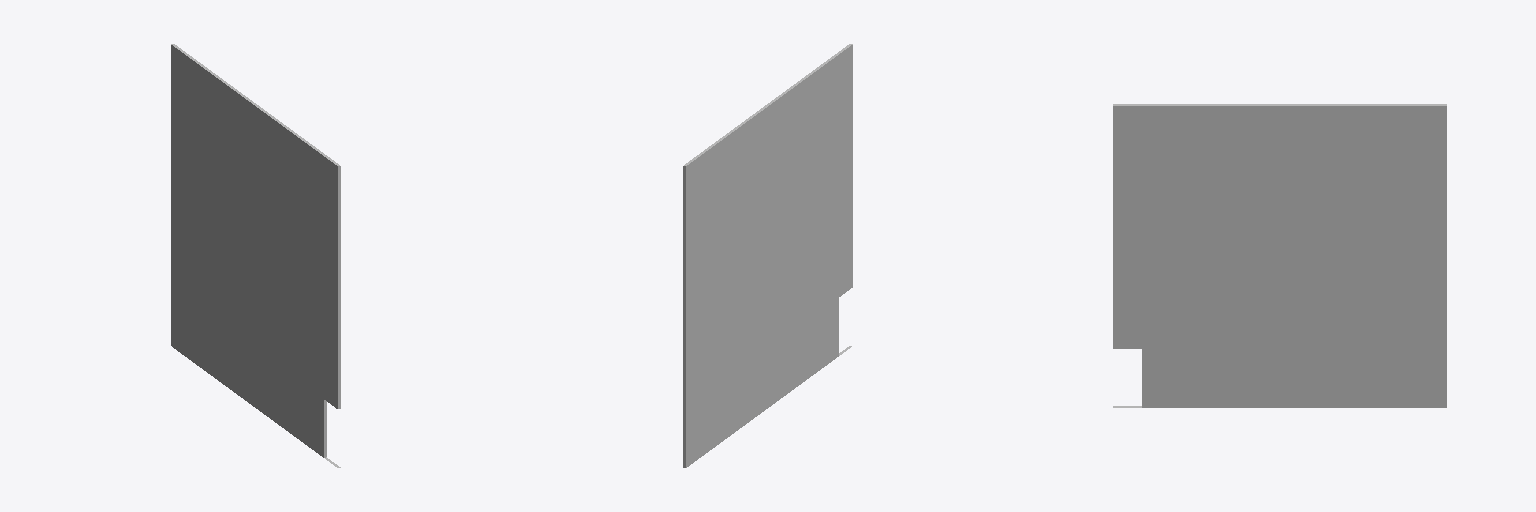
The model's file is lighttestroomCube.006.obj.
The picture shows the model from 3 angles: view 1: azimuth 30°, elevation 25°; view 2: azimuth 150°, elevation 25°; view 3: azimuth 270°, elevation 25°; orthographic projection.
Visible parts, largest first — view 1: Cube.006_Cube.009; view 2: Cube.006_Cube.009; view 3: Cube.006_Cube.009.
Boxes of the visible parts, x1,y1,x2,y2 form: Cube.006_Cube.009: [171, 44, 340, 467]; Cube.006_Cube.009: [683, 44, 852, 467]; Cube.006_Cube.009: [1113, 104, 1446, 407].
Size of the model in its own units: 0.2 by 20 by 20.